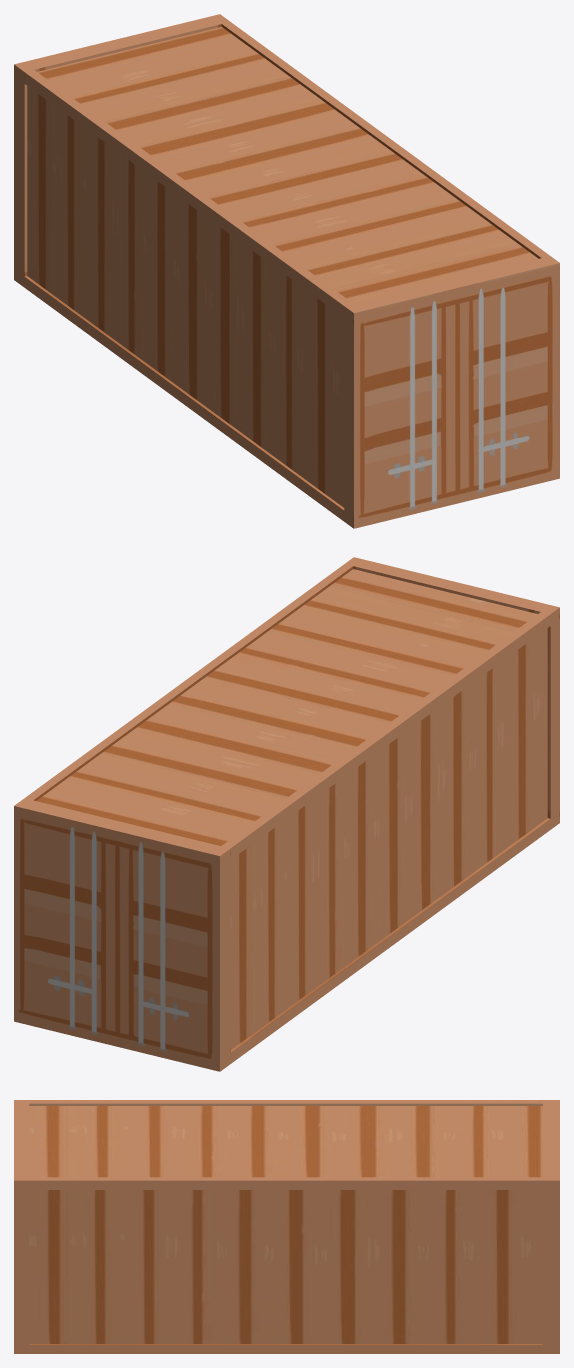
Rendered from crate.FBX.
3 renders of one model, top to bottom at view 1: azimuth 30°, elevation 25°; view 2: azimuth 150°, elevation 25°; view 3: azimuth 270°, elevation 25°, orthographic. The views are drawn at different scales.
Parts seen in each view (by area): view 1: Box001; view 2: Box001; view 3: Box001.
Part boxes in pixels (box(x1,y1,x2,y2)): Box001: box(14, 14, 559, 528); Box001: box(14, 557, 559, 1071); Box001: box(14, 1100, 559, 1353).
Size of the model in its own units: 70 by 70 by 200.
Materials: 1 (1 with a texture image).
